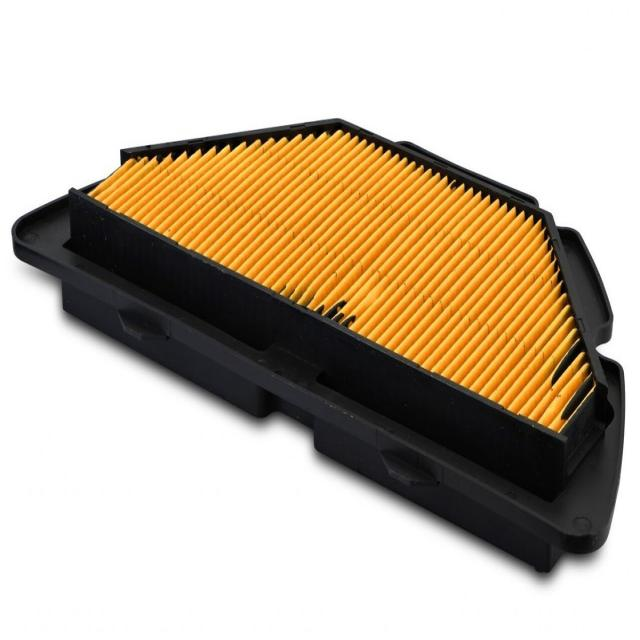air_filter: (6, 109, 631, 574)
